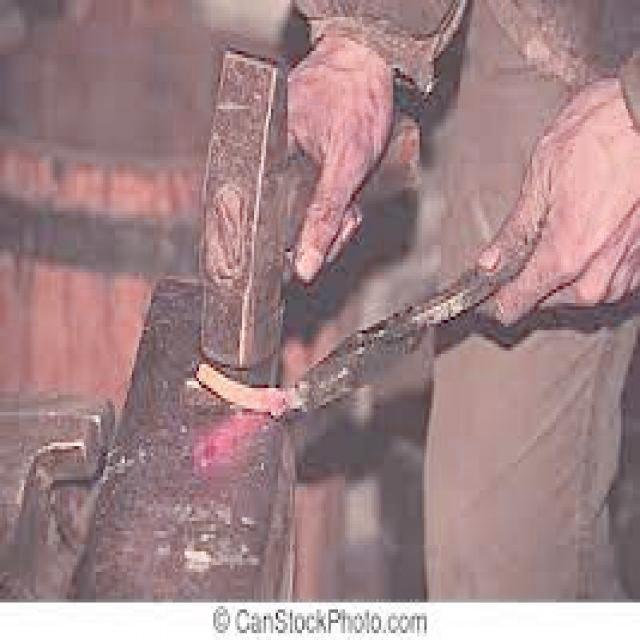hammer: (199, 29, 434, 386)
